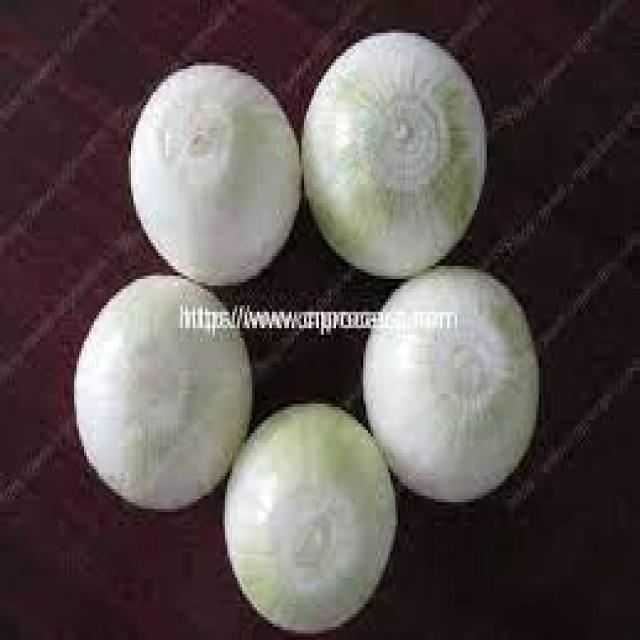Onion: (52, 276, 262, 515), (352, 264, 552, 514), (301, 21, 487, 281), (124, 49, 312, 282), (220, 391, 395, 630)
